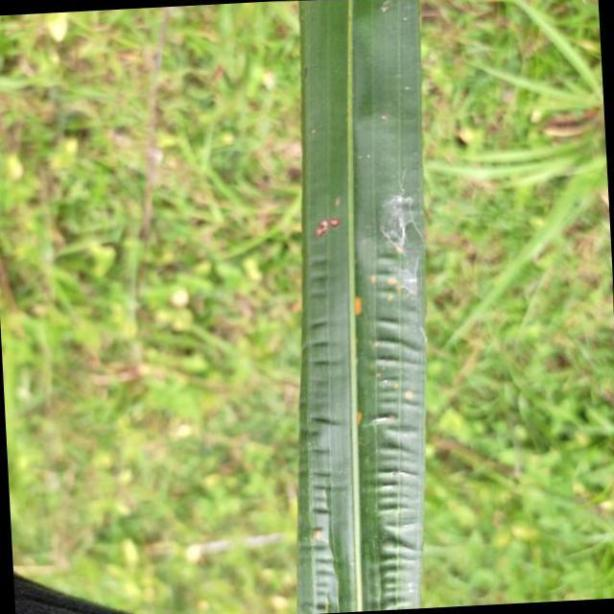Boron: (301, 0, 424, 614)
